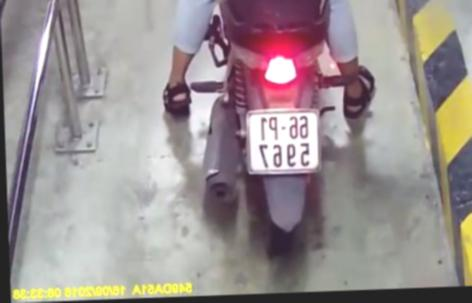License_Plate: (237, 106, 328, 181)
